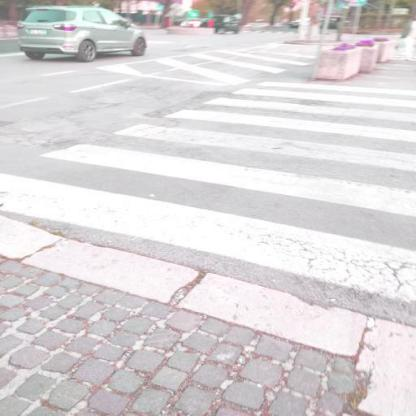crosswalk: (107, 106, 415, 178)
